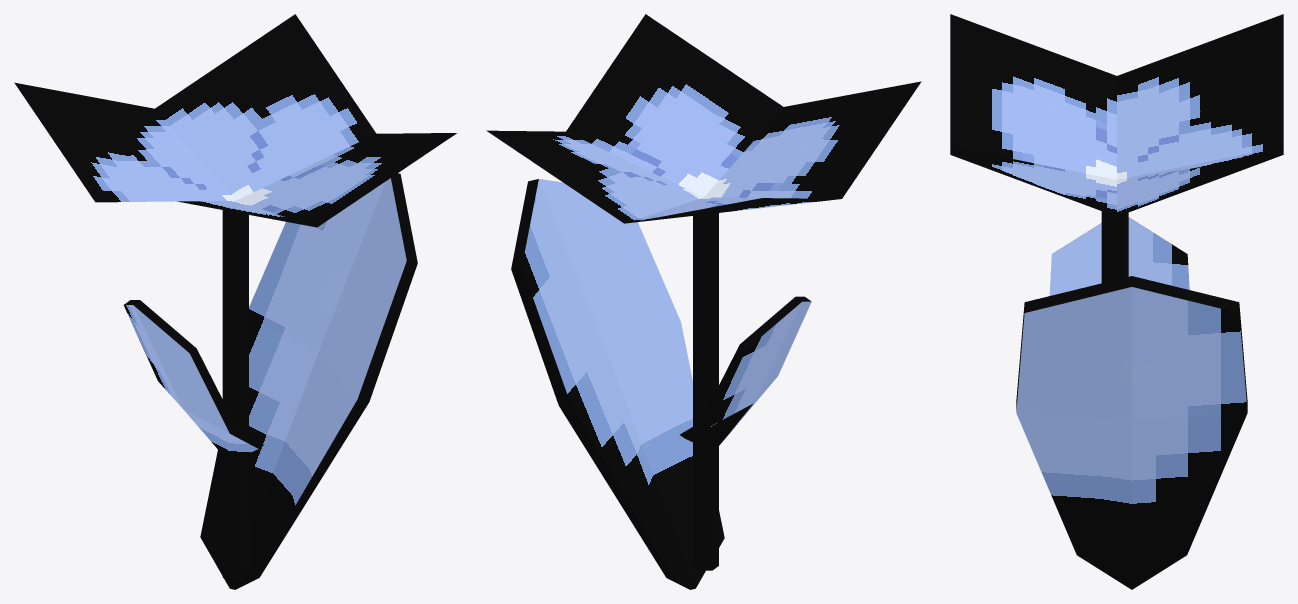
The model's file is nemphilia_2.glb.
3 views of the same model, side by side, from view 1: azimuth 30°, elevation 25°; view 2: azimuth 150°, elevation 25°; view 3: azimuth 270°, elevation 25° (orthographic). The views are drawn at different scales.
Parts seen in each view (by area): view 1: Cube.076; view 2: Cube.076; view 3: Cube.076.
Boxes of the visible parts, left/top/right/bottom form: Cube.076: left=14, top=14, right=456, bottom=589; Cube.076: left=486, top=14, right=921, bottom=589; Cube.076: left=950, top=14, right=1283, bottom=589.
Bounding box in the file's own units: 0.5296 × 0.7923 × 0.4766.
1 material, 1 textured.
